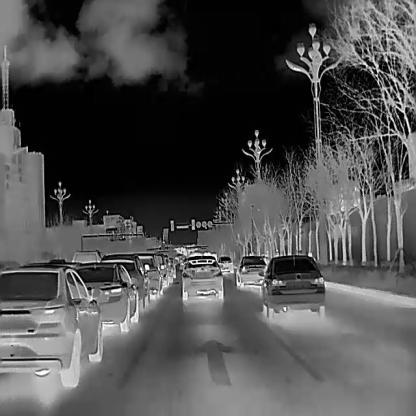car: (0, 261, 102, 388), (258, 253, 328, 322), (74, 260, 139, 333), (101, 251, 151, 310), (181, 254, 224, 303), (135, 251, 163, 300), (235, 253, 267, 288), (217, 255, 234, 275)
